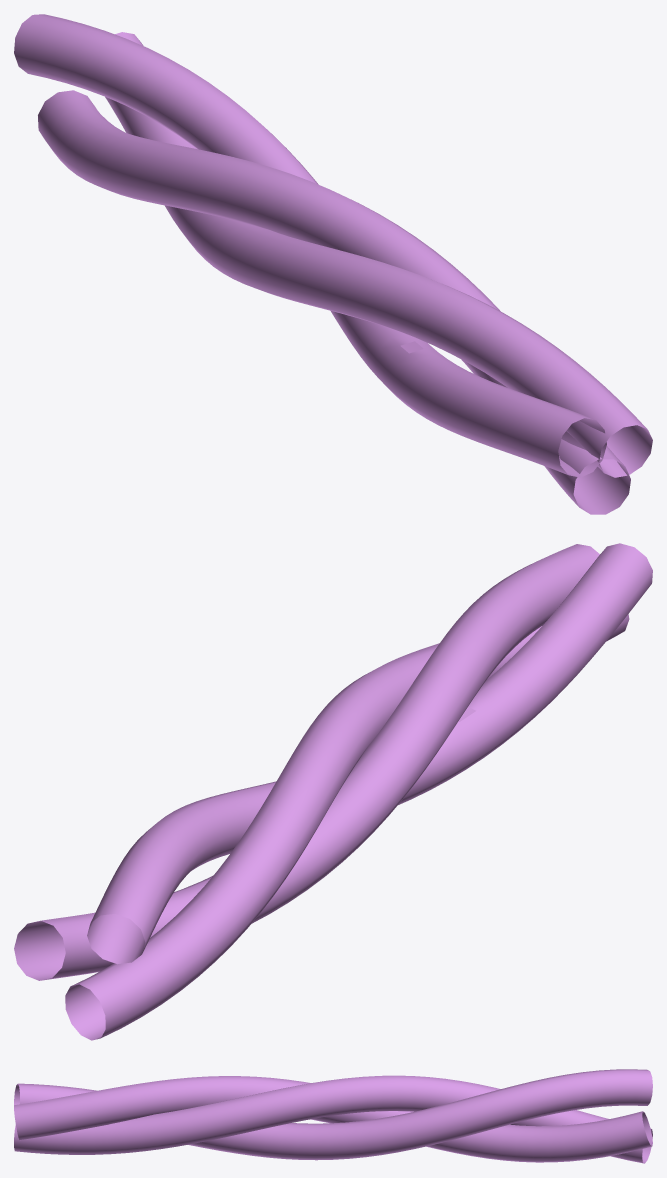
The model's file is re_blue2.obj.
3 views of the same model, one above another, from view 1: azimuth 30°, elevation 25°; view 2: azimuth 150°, elevation 25°; view 3: azimuth 270°, elevation 25° (orthographic). The views are drawn at different scales.
Parts seen in each view (by area): view 1: Object002; view 2: Object002; view 3: Object002.
Boxes of the visible parts, x1,y1,x2,y2 form: Object002: [14, 14, 652, 514]; Object002: [14, 543, 652, 1040]; Object002: [14, 1069, 652, 1163].
Bounding box in the file's own units: 6.07 × 6.25 × 41.7.
